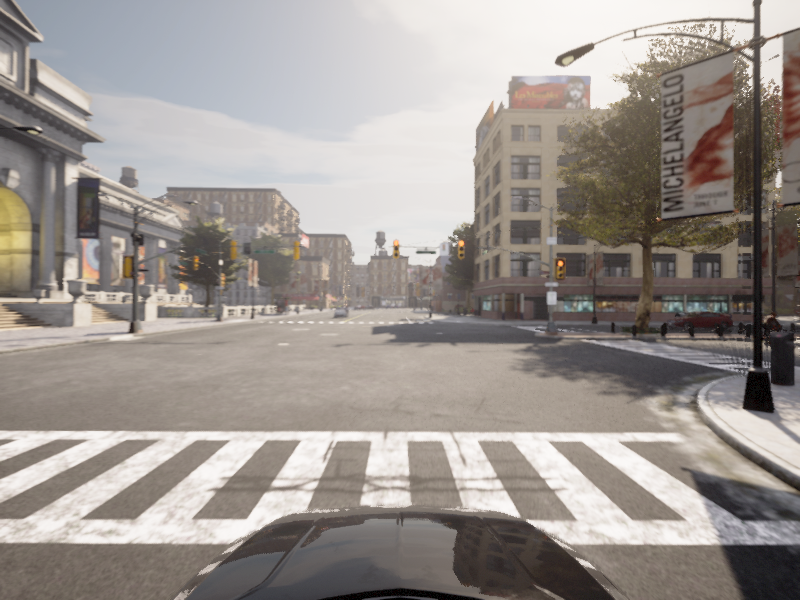vehicle: (661, 311, 737, 330), (749, 312, 792, 345)
